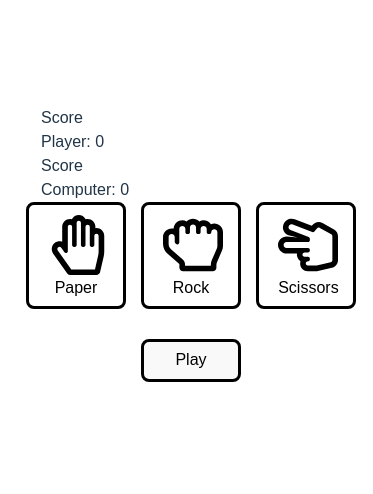
Results › should displays correct player's and computer's scores
The width and height of the screenshot is (373, 494).
Click the button "Rock".
click(191, 256)  # box [141, 202, 241, 309]
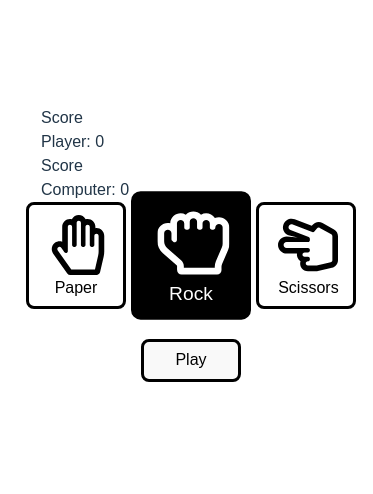
Click the button "Play".
click(191, 360)  # box [141, 339, 241, 382]
Wait 3000 ms
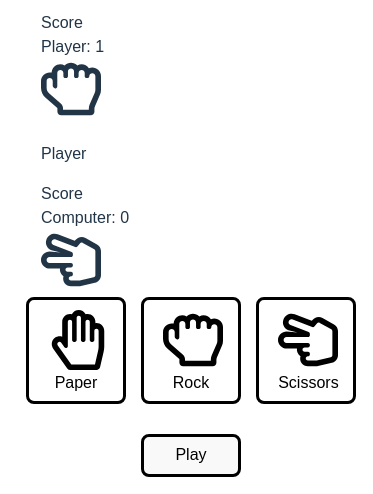
Now the text "Player: 1" is shown, box [41, 38, 104, 55]
Click the button "Paper".
click(76, 351)  # box [26, 297, 126, 404]
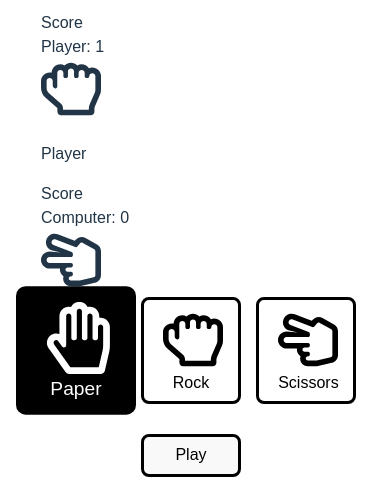
Click the button "Play".
click(191, 455)  # box [141, 434, 241, 477]
Wait 3000 ms
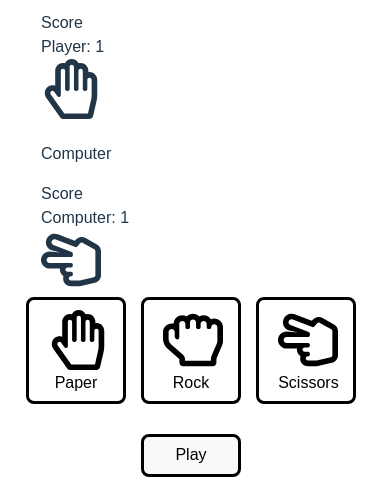
Now the text "Computer: 1" is shown, box [41, 209, 129, 226]
